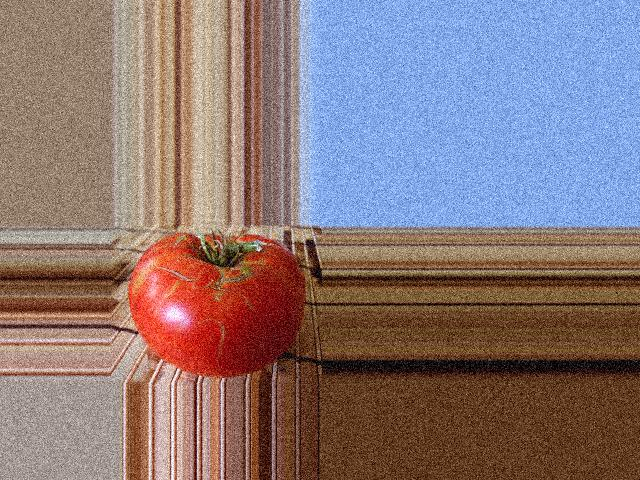tomato: (129, 233, 306, 375)
